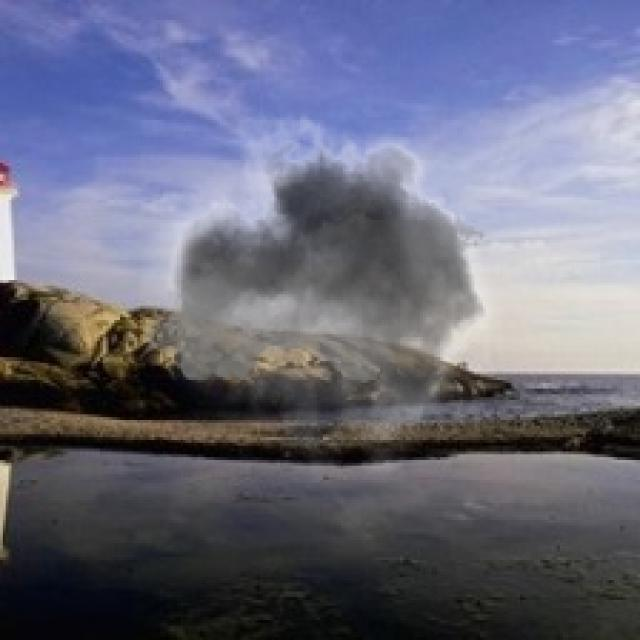Smoke: (140, 94, 517, 486)
